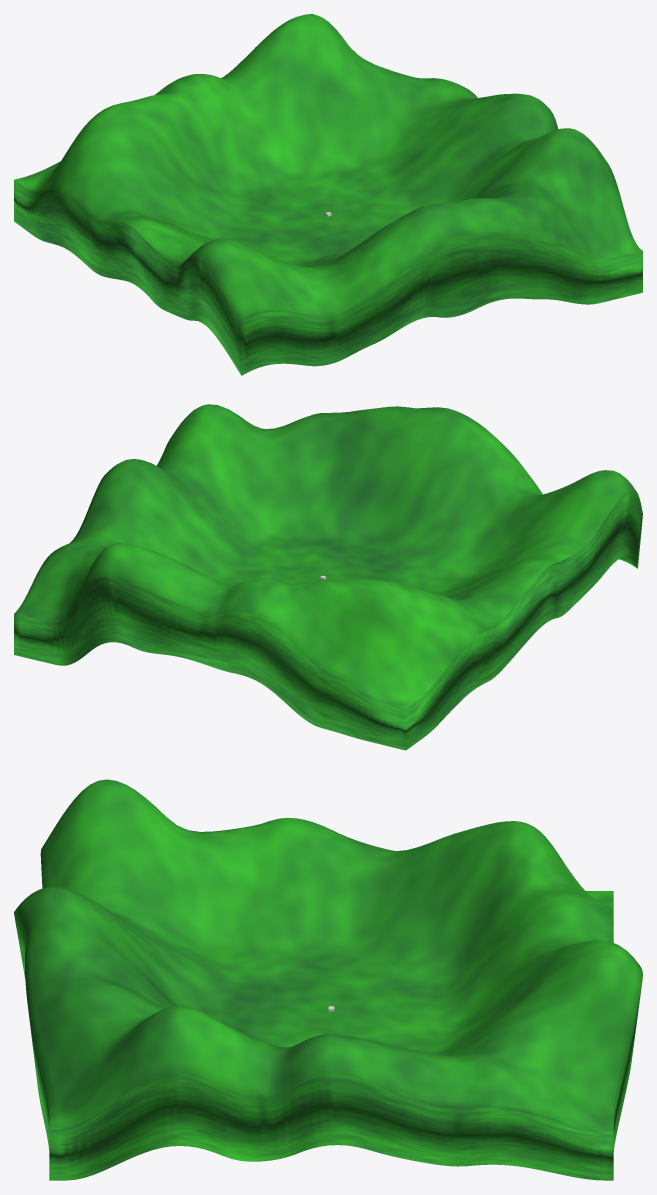
3 renders of one model, top to bottom at view 1: azimuth 30°, elevation 25°; view 2: azimuth 150°, elevation 25°; view 3: azimuth 270°, elevation 25°, orthographic. The views are drawn at different scales.
Visible parts, largest first — view 1: 立方体.001; view 2: 立方体.001; view 3: 立方体.001.
Boxes of the visible parts, box(x1,y1,x2,y2) form: 立方体.001: box(14, 14, 642, 375); 立方体.001: box(14, 404, 642, 750); 立方体.001: box(14, 779, 642, 1180).
Size of the model in its own units: 220 by 65.02 by 223.
2 materials, 1 textured.
